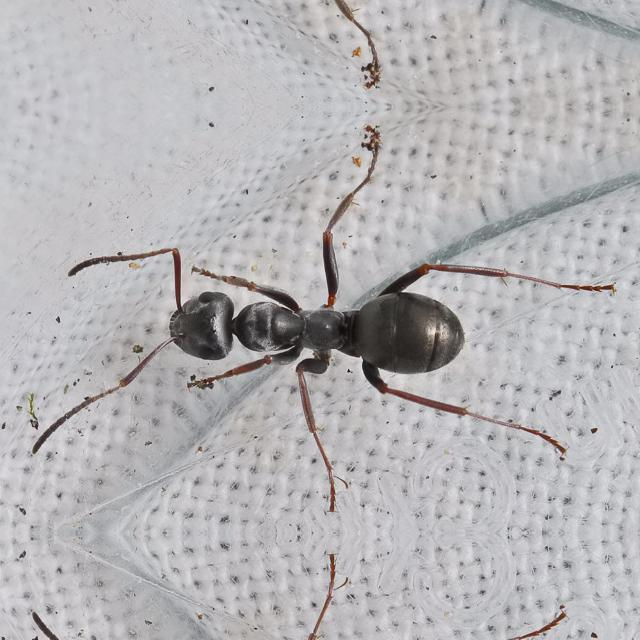Formica: (125, 214, 501, 448)
